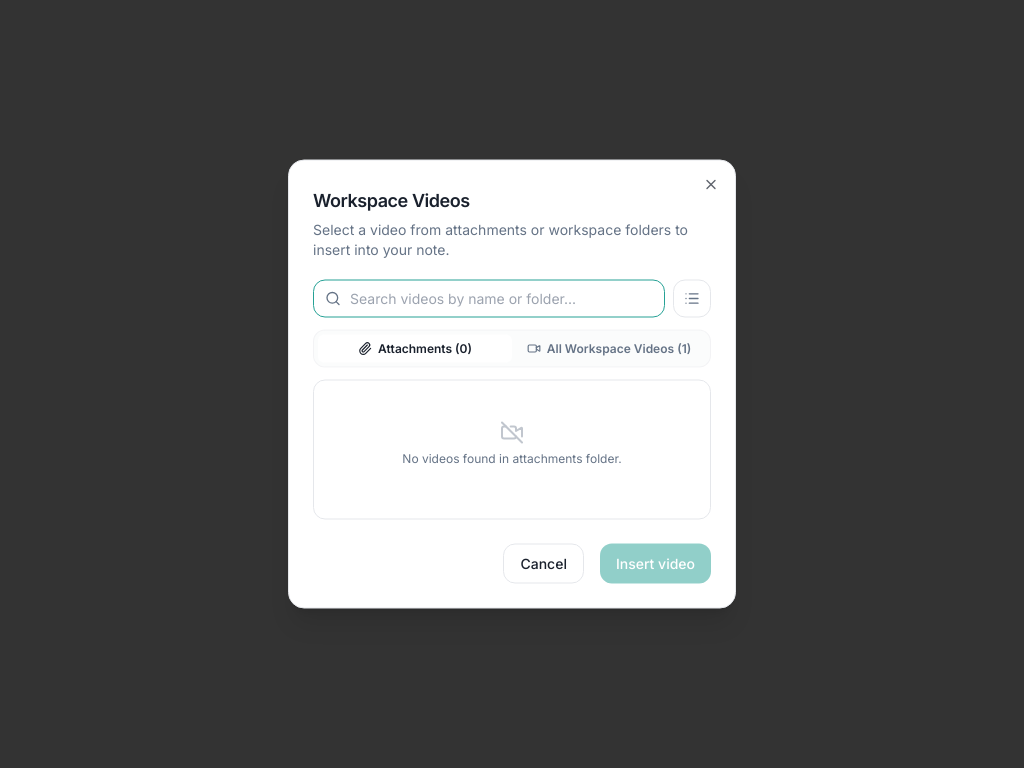
Test: WorkspaceMediaPickers - Image & Video Thumbnail Previews › Root folder display in Media Picker Dialogs › displays Root or หน้าหลัก instead of '/' for root-level items in WorkspaceVideoPickerDialog
The image size is (1024, 768).
Click the button "All Workspace Videos (1)" at (609,348), box [512,334,706,362]
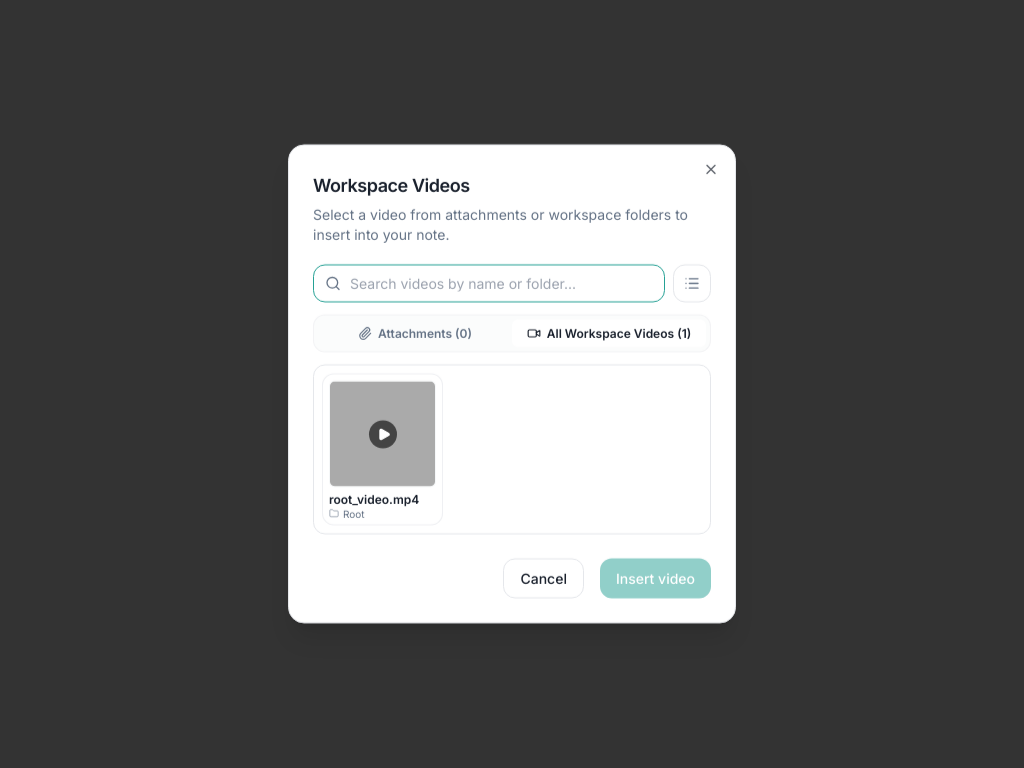
Now the text "root_video.mp4" is shown, box [329,492,419,507]
Now the text "Root" is shown, box [343,509,365,519]
